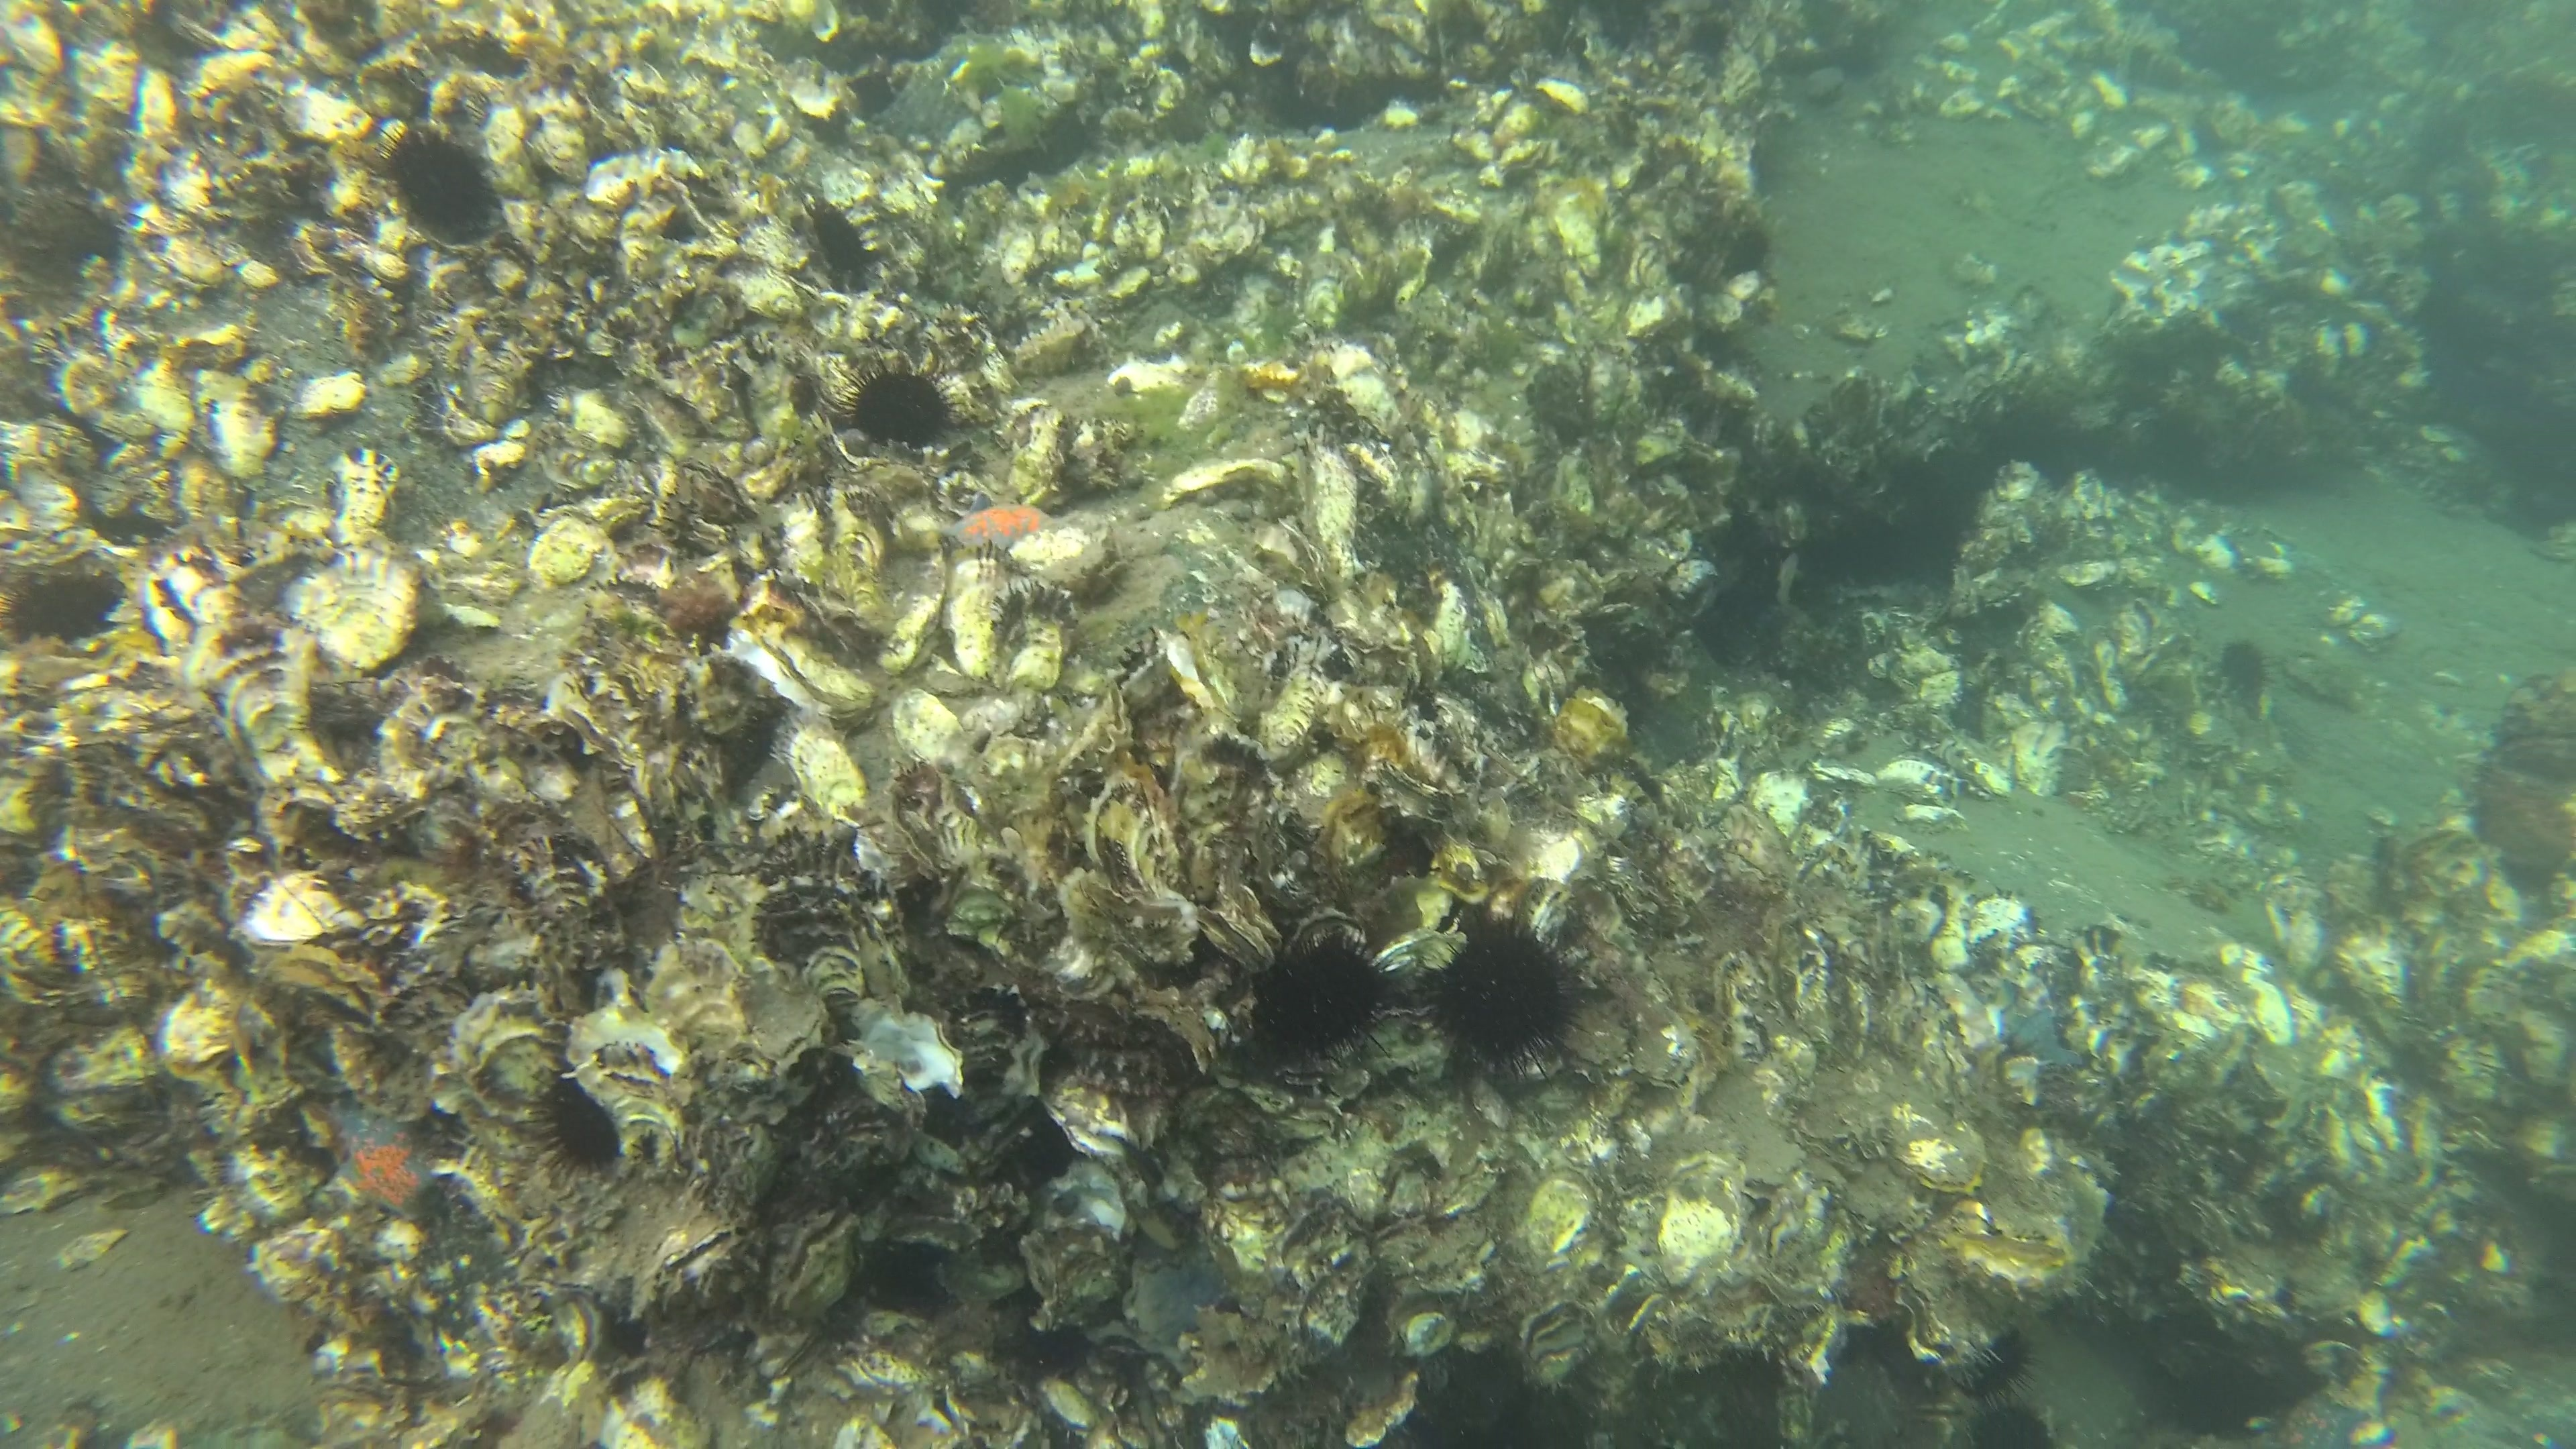echinus: (1414, 899, 1605, 1095), (1237, 920, 1407, 1088), (366, 117, 506, 251), (819, 347, 977, 458), (517, 1062, 626, 1185), (2, 557, 131, 648), (796, 186, 892, 294), (2217, 637, 2272, 715)
starfish: (310, 1095, 448, 1233), (1983, 975, 2084, 1077), (932, 487, 1067, 561)
